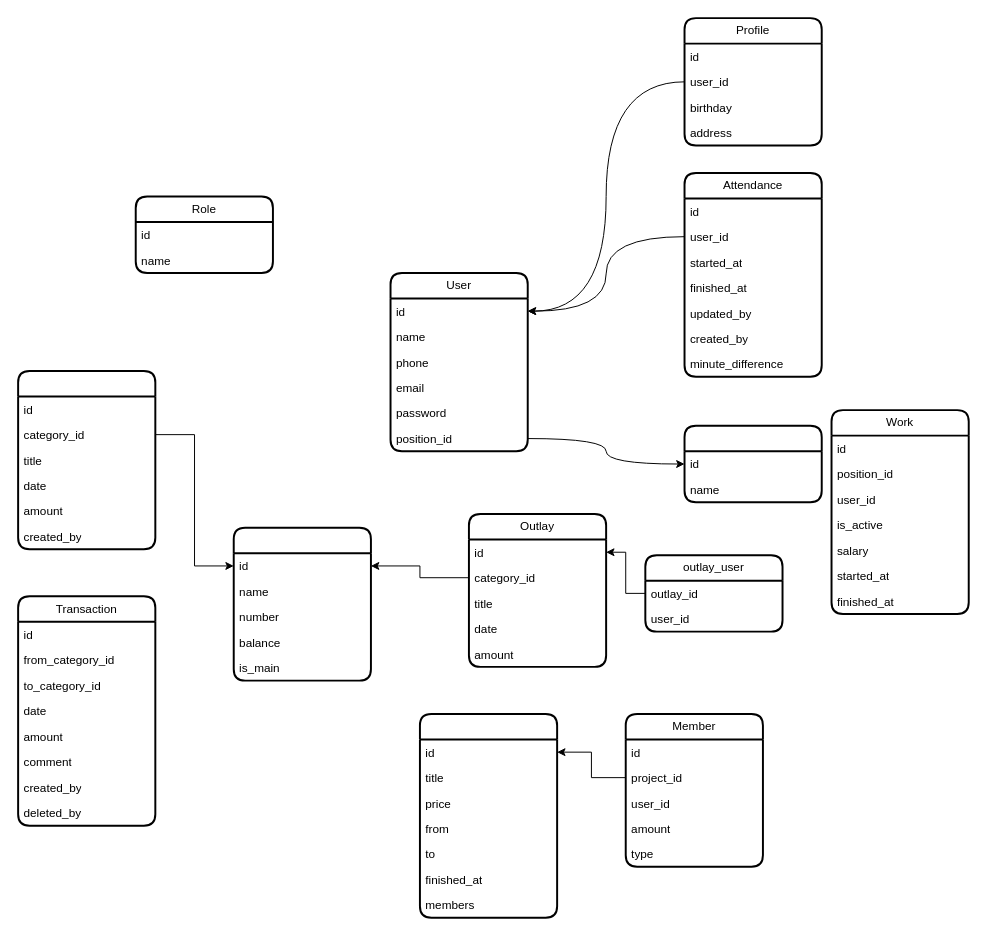
Some shapes in this 986 by 937 pixel diagram are drawn without their labels. The shapes that lost their labels are listed below. From the top down, each one's box as (x1, y1, x2, y2) in pixels, then its label:
(17, 369, 156, 550): Import
(683, 424, 822, 503): Position
(232, 526, 371, 681): Category
(418, 712, 558, 918): Project
